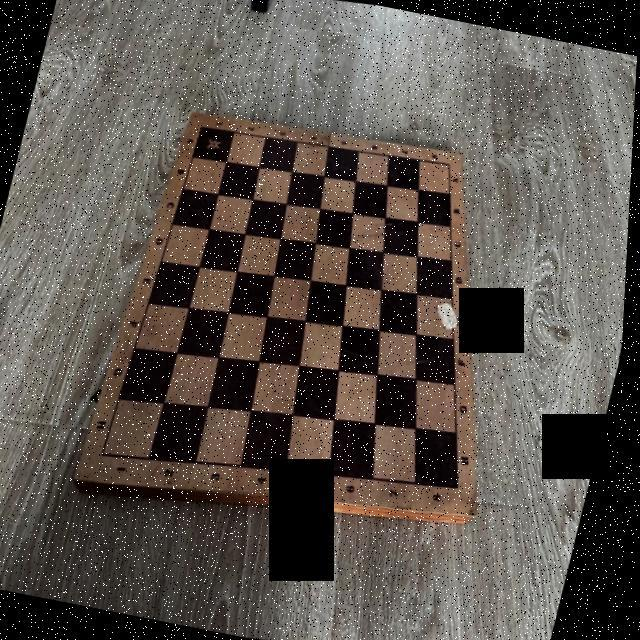chess-table-corners: (452, 478, 472, 497), (100, 446, 114, 462), (446, 160, 455, 170), (200, 122, 208, 132)
